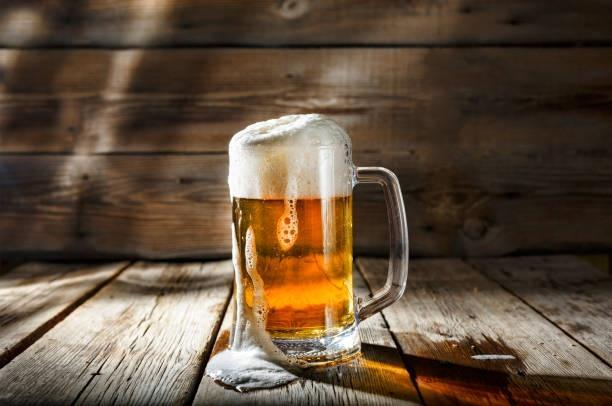glass-mug: (224, 112, 412, 372)
